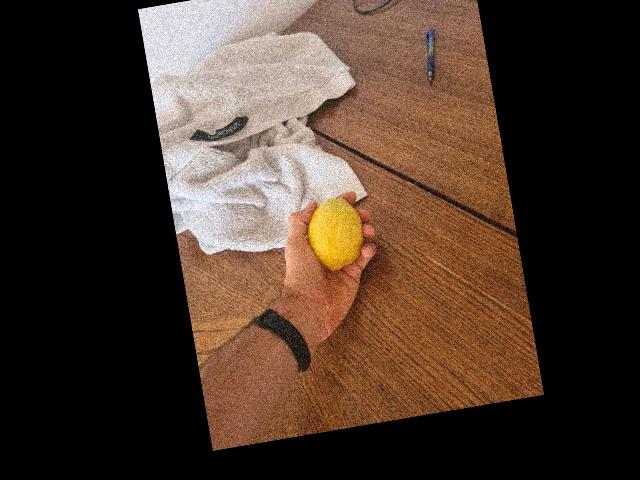lemon: (304, 191, 370, 276)
